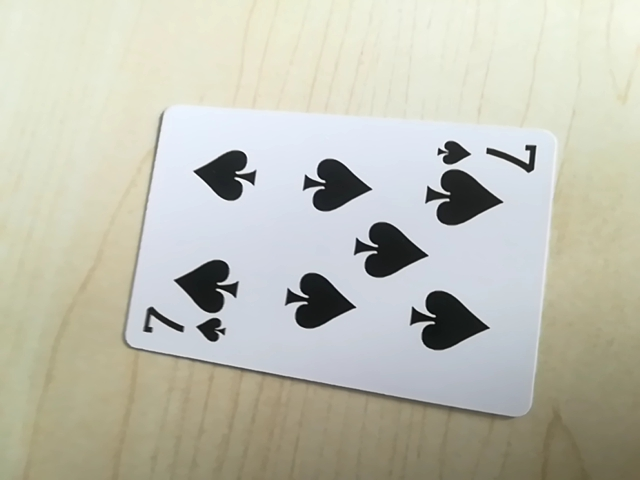ht 7: (433, 130, 546, 171), (137, 309, 234, 346)
